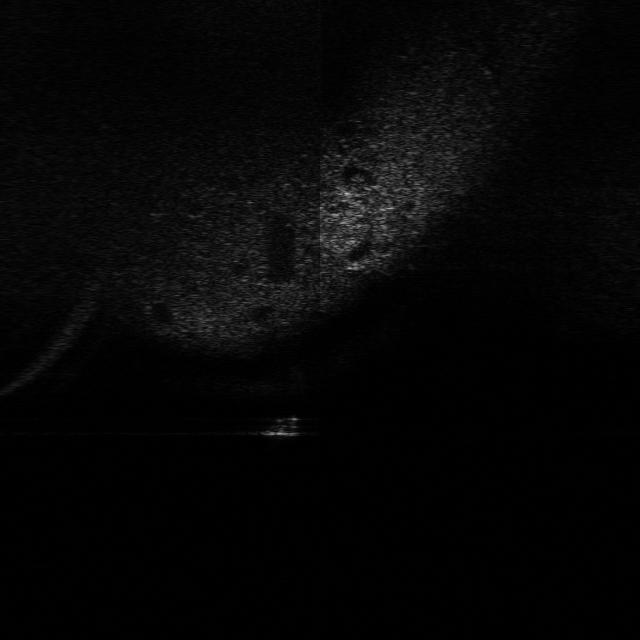cube: (254, 402, 310, 440)
